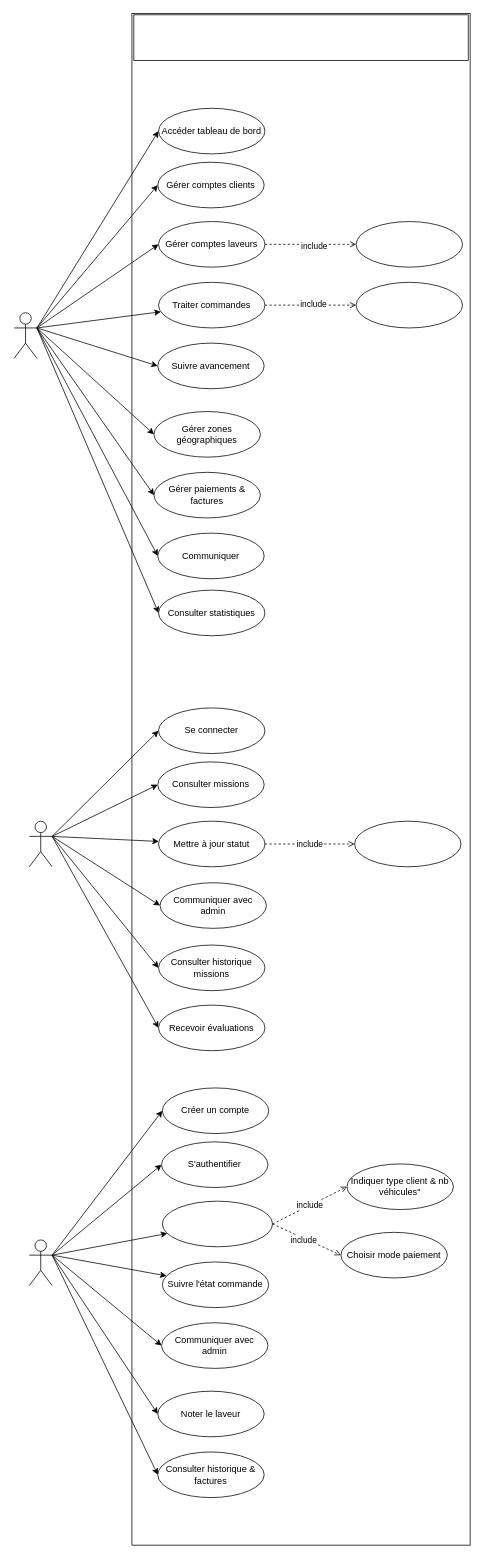
Image size: 484x1559. Some labels were removed from this diagram. The shapes that lost their labels are listed below. From the top down, each one's centre as x and y in pixels, then its label:
[300,37]: Lavagini
[409,244]: Créer compte laveur
[409,305]: Assigner missions
[25,335]: Admin
[40,843]: Laveur
[407,843]: Indiquer temps passé
[217,1223]: Demander un service de lavage
[40,1262]: Client
